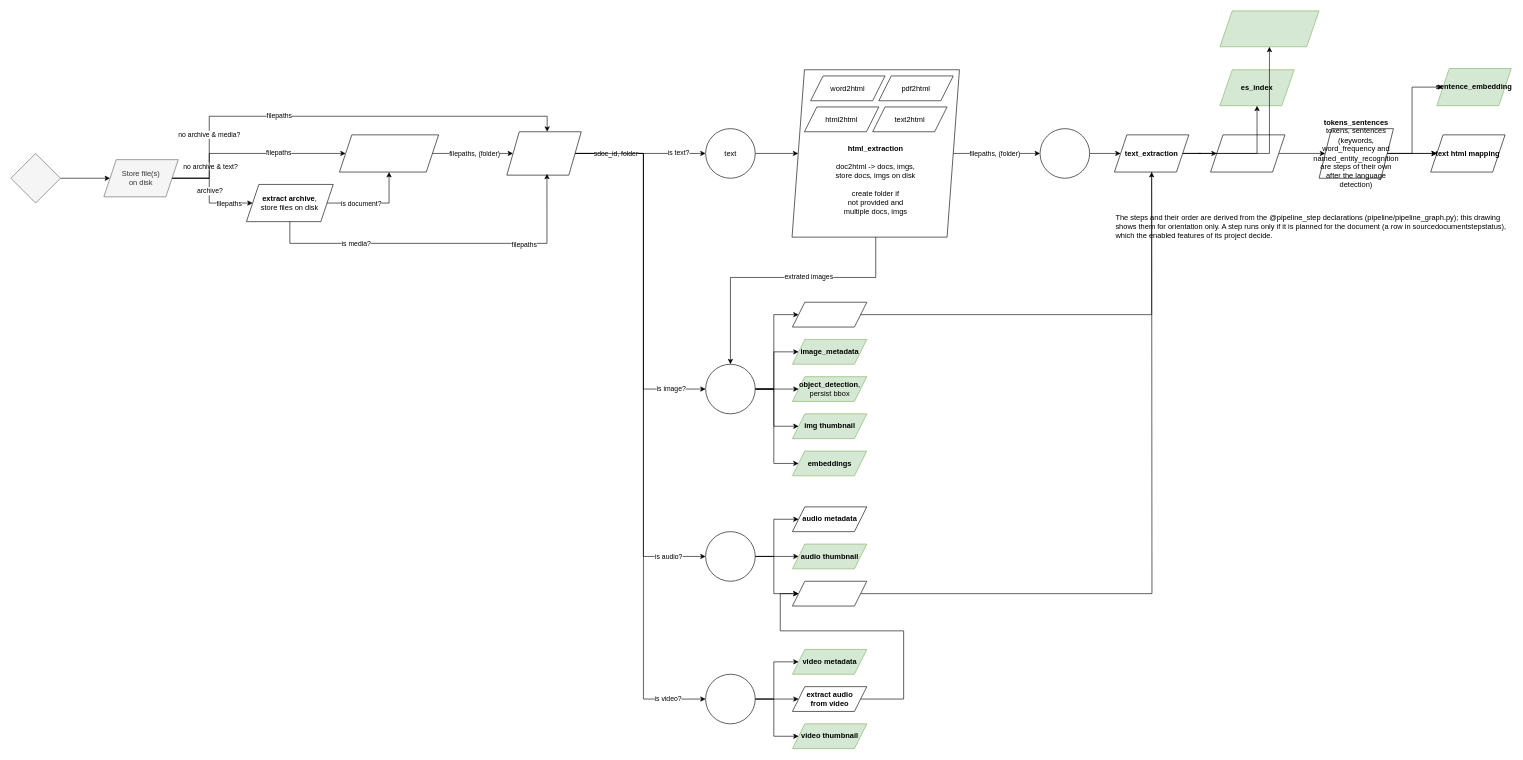
The diagram is 1523 pixels wide and 760 high, and some of its shapes have lost their labels. Each missing label, with the box of its shape:
audio entrypoint: (705, 531, 755, 581)
doc chunking: (339, 134, 439, 172)
document_embedding: (1219, 10, 1319, 47)
html entrypoint: (1039, 128, 1090, 178)
image entrypoint: (705, 364, 755, 414)
image_caption: (792, 302, 867, 327)
language_detection: (1210, 134, 1285, 172)
sdoc init: (506, 131, 581, 175)
transcribe: (792, 581, 867, 606)
Upload file or archive: (10, 153, 60, 203)
video entrypoint: (705, 674, 755, 724)
